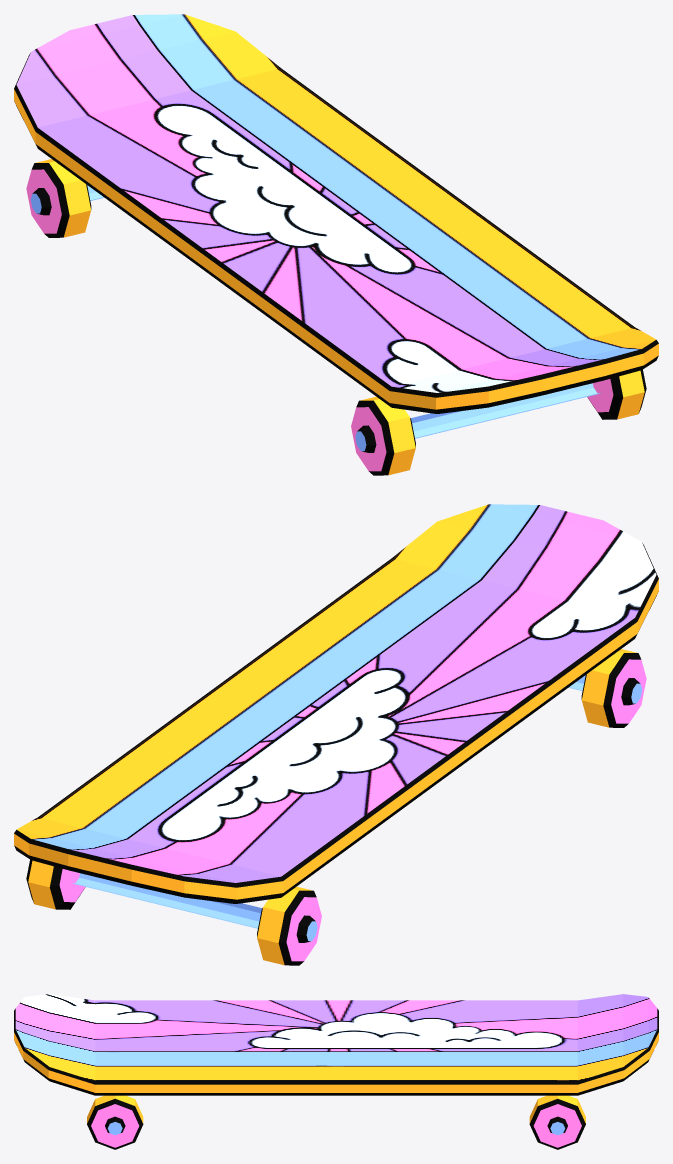
File: cocobay_env_skateboard.gltf
3 views of the same model, one above another, from view 1: azimuth 30°, elevation 25°; view 2: azimuth 150°, elevation 25°; view 3: azimuth 270°, elevation 25° (orthographic). The views are drawn at different scales.
Visible parts, largest first — view 1: cocobay_env_skateboard_glb; view 2: cocobay_env_skateboard_glb; view 3: cocobay_env_skateboard_glb.
Boxes of the visible parts, box(x1,y1,x2,y2) form: cocobay_env_skateboard_glb: box(14, 14, 658, 475); cocobay_env_skateboard_glb: box(14, 504, 658, 965); cocobay_env_skateboard_glb: box(14, 994, 658, 1149).
Size of what is drawn, in the model's own units: 1.21 by 0.5492 by 3.58.
2 materials, 2 textured.
